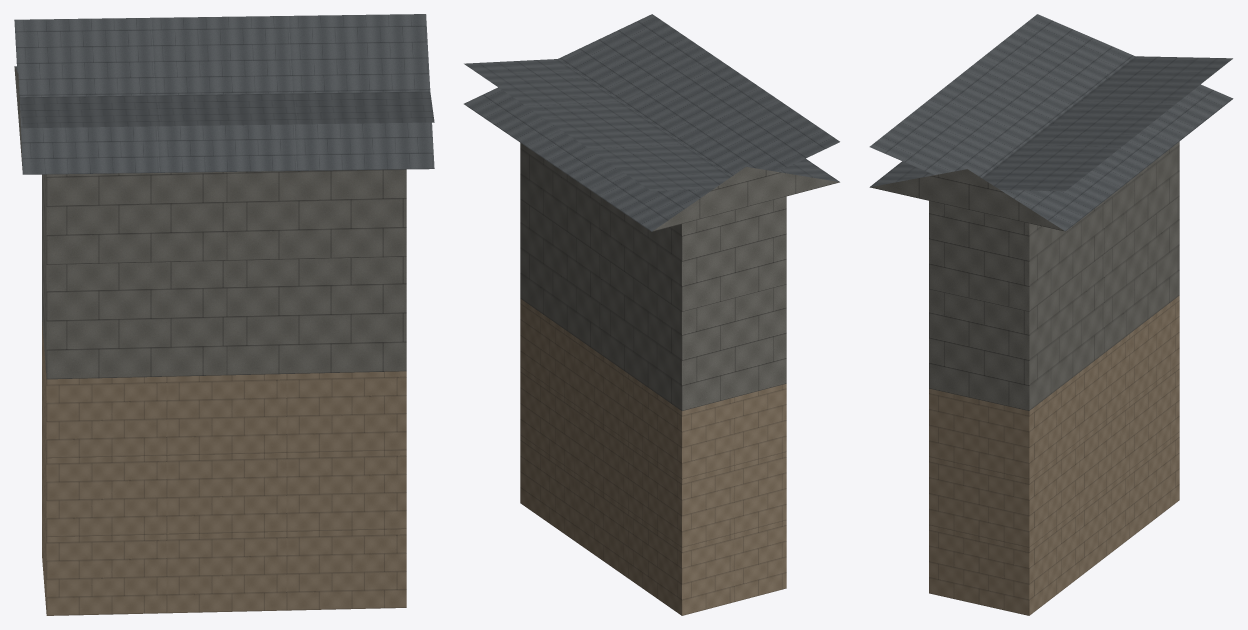
File: bld_c32_-40_455.gltf
3 views of the same model, side by side, from view 1: azimuth 30°, elevation 25°; view 2: azimuth 150°, elevation 25°; view 3: azimuth 270°, elevation 25° (orthographic). The views are drawn at different scales.
Parts seen in each view (by area): view 1: bld_c32_-40_455; view 2: bld_c32_-40_455; view 3: bld_c32_-40_455.
Part boxes in pixels (x1,y1,x2,y2): bld_c32_-40_455: (14,14,434,615); bld_c32_-40_455: (464,14,839,615); bld_c32_-40_455: (869,14,1233,615).
Bounding box in the file's own units: 9.43 × 11 × 8.19.
Materials: 4 (4 with a texture image).
